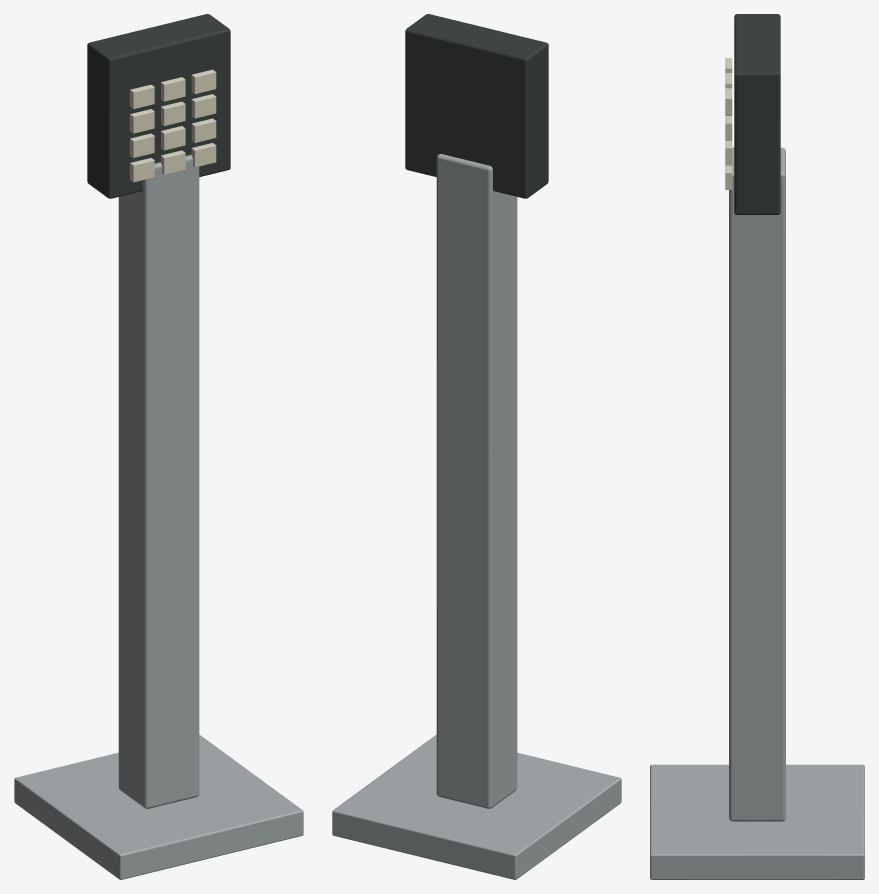
File: extraction-routes-and-objectives-keypad-pedestal-234a0bff__22165.glb
3 renders of one model, left to right at view 1: azimuth 30°, elevation 25°; view 2: azimuth 150°, elevation 25°; view 3: azimuth 270°, elevation 25°, orthographic.
Visible parts, largest first — view 1: keypad-pedestal; view 2: keypad-pedestal; view 3: keypad-pedestal.
Part boxes in pixels (<box>): keypad-pedestal: <box>14,14,303,879</box>; keypad-pedestal: <box>332,14,621,879</box>; keypad-pedestal: <box>650,14,864,879</box>.
Size of the model in its own units: 0.3 by 1.22 by 0.3.
